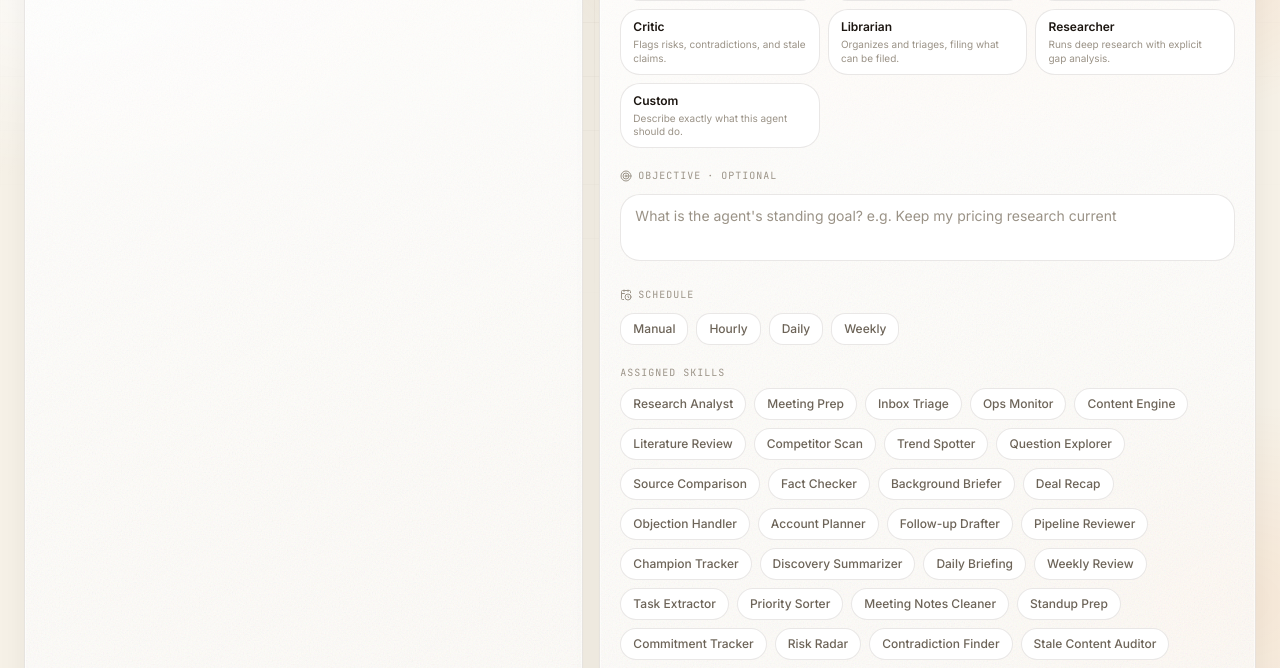
it: Conversational Agent Builder — two-pane layout + editable preview + glass recipe › reflects a preview button-group edit directly — picking the Daily schedule reveals its cron (Req 7.5)
This screenshot has width=1280, height=668.
(page scrolled)
Click the button "Daily". click: (796, 328)
box: [769,312,823,344]
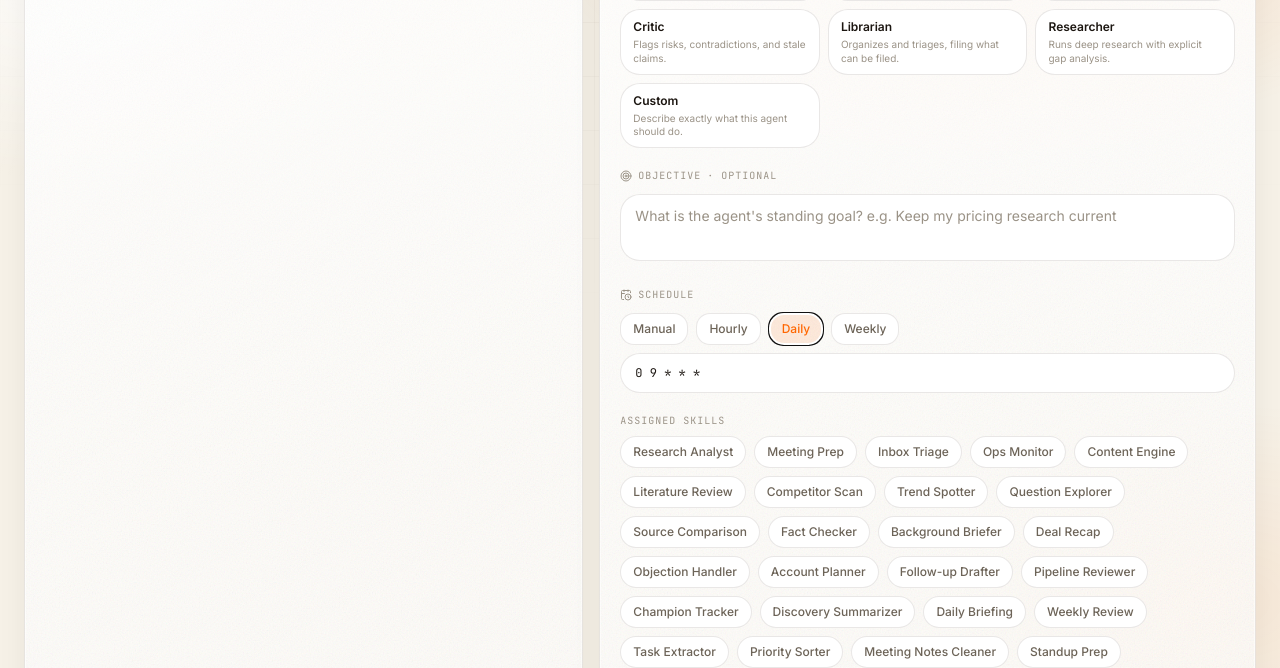
Expected: the field with placeholder "cron expression e.g. 0 9 * * *" holds "0 9 * * *", [620,352,1235,392]
